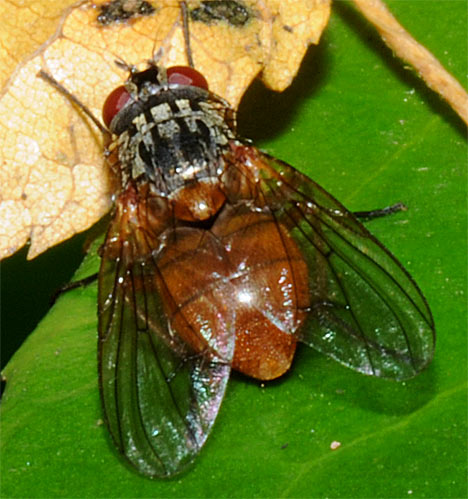house fly: (43, 1, 441, 485)
